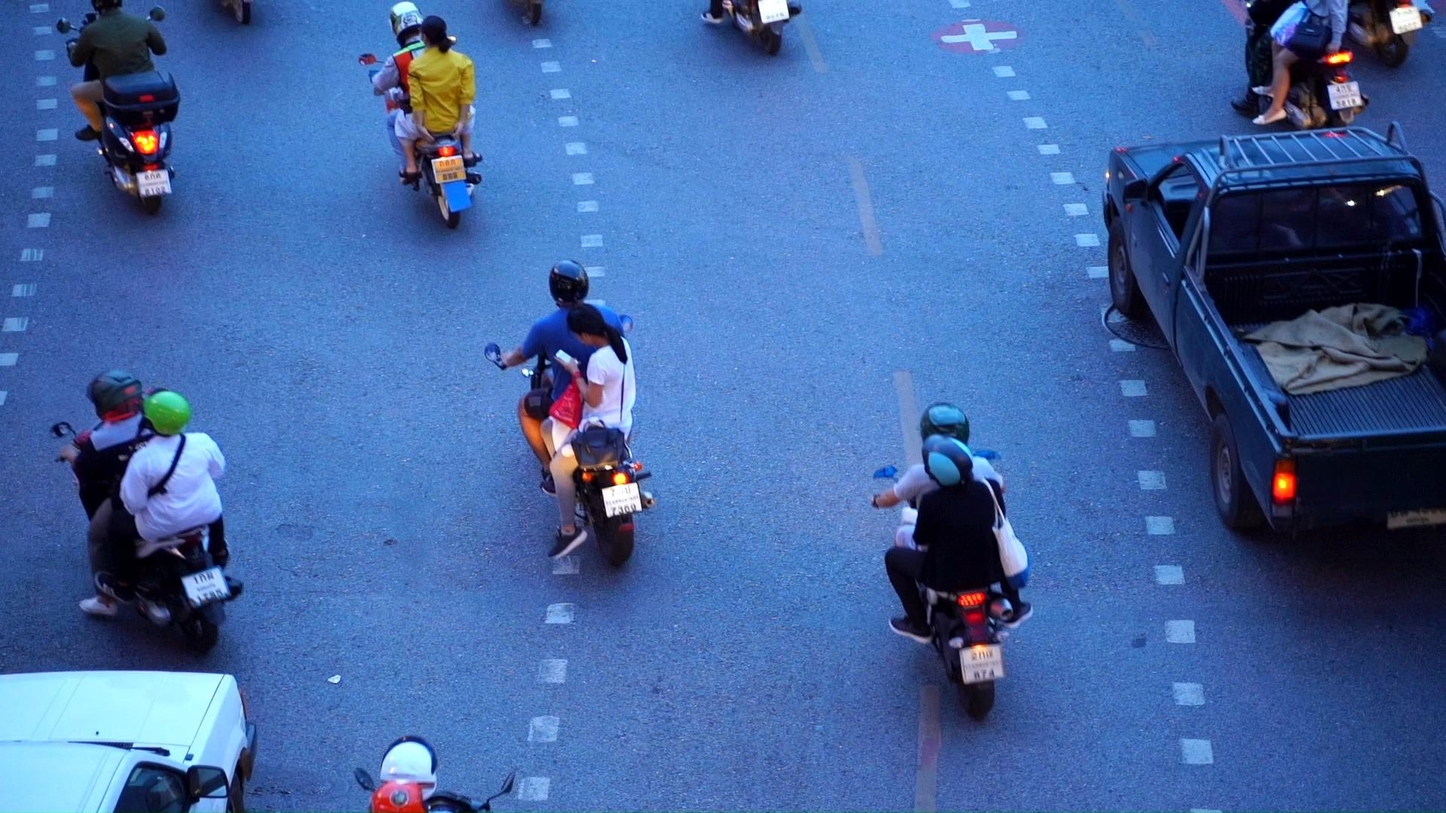driver: (50, 369, 242, 654), (485, 258, 655, 567), (868, 402, 1033, 719), (357, 0, 482, 229), (56, 0, 181, 214), (1230, 0, 1371, 127), (352, 736, 516, 813), (701, 0, 802, 56)
helmet: (379, 736, 439, 801), (86, 369, 142, 422), (922, 434, 974, 490), (138, 388, 192, 438), (920, 402, 970, 446), (549, 258, 589, 309), (371, 778, 429, 813), (389, 1, 423, 43), (91, 0, 123, 16)
no-helmet: (566, 304, 626, 348), (417, 16, 453, 54)
